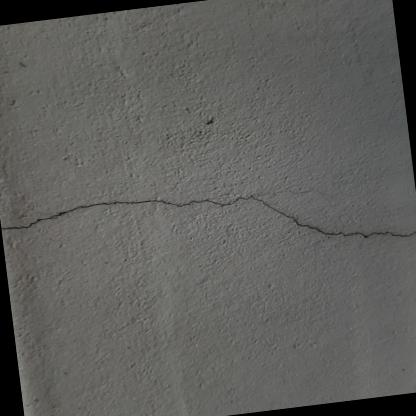crack: (1, 194, 416, 237)
